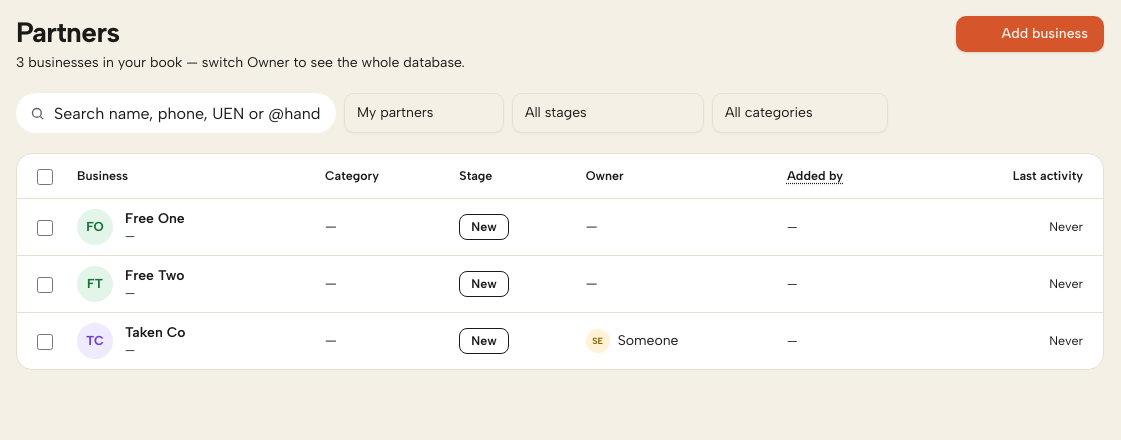
a clean claim says so and empties the selection
Click the checkbox named "Select Free One" at (45, 228), box [37, 220, 53, 236]
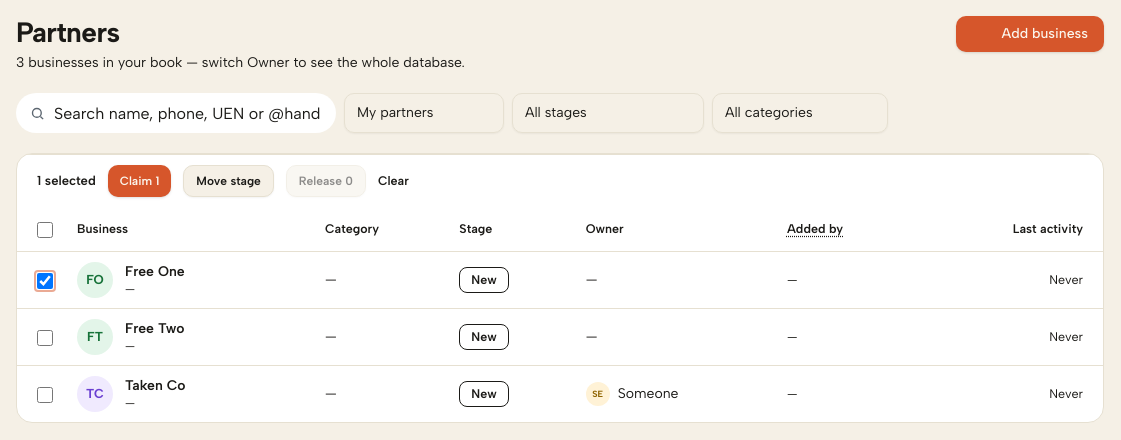
Click the button "Claim 1" at (140, 181), box [108, 165, 171, 197]
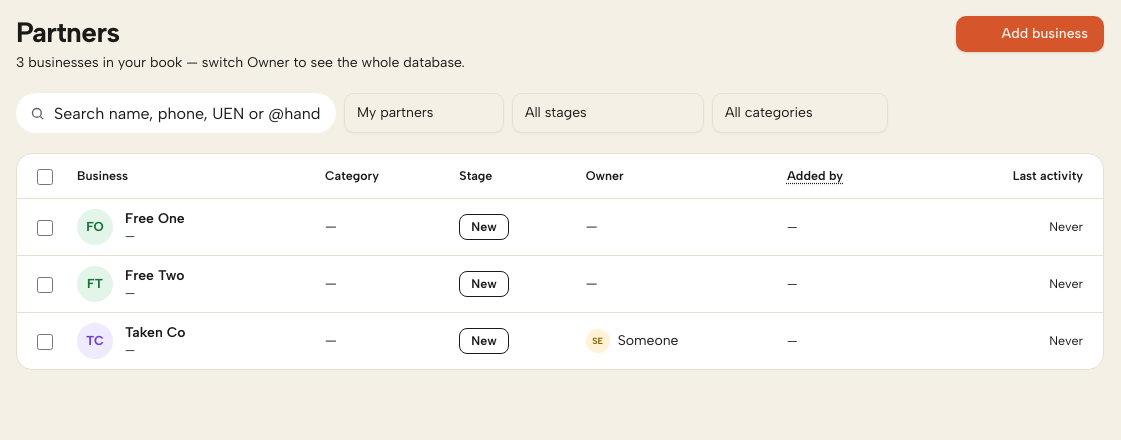
expect the message "1 selected Claim 1 Move stage Release 0 Clear" is gone: met
